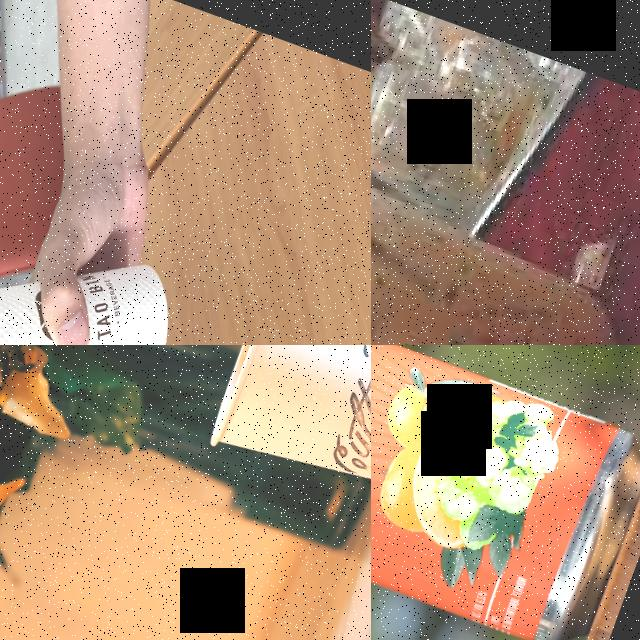can: (371, 345, 640, 640)
cup: (371, 106, 640, 345), (203, 345, 371, 537), (0, 198, 197, 345)
